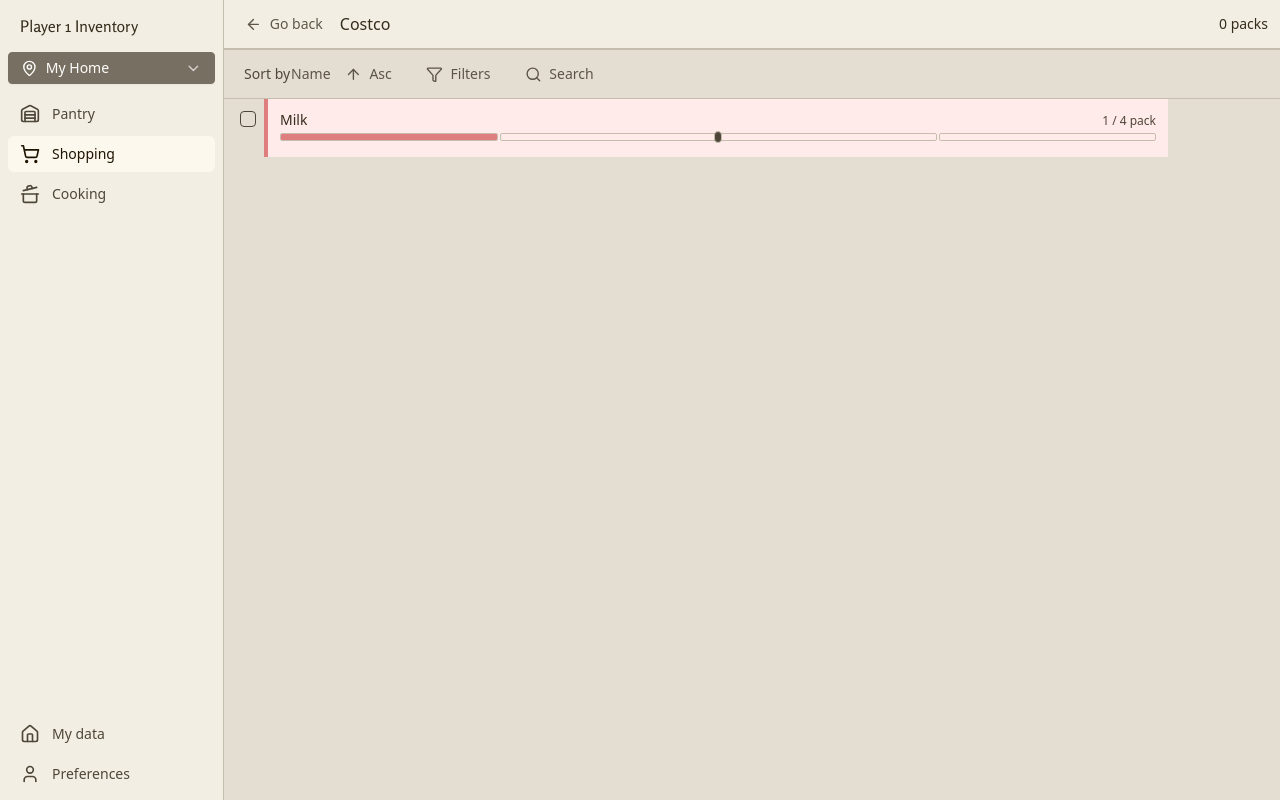
Test: Vendor cart page › user can toggle an item into the vendor cart
The width and height of the screenshot is (1280, 800).
Expected: the heading "Milk" is shown, [280,111,307,128]
Click the checkbox named "milk". click: {"x": 248, "y": 119}
box: [240,111,256,127]
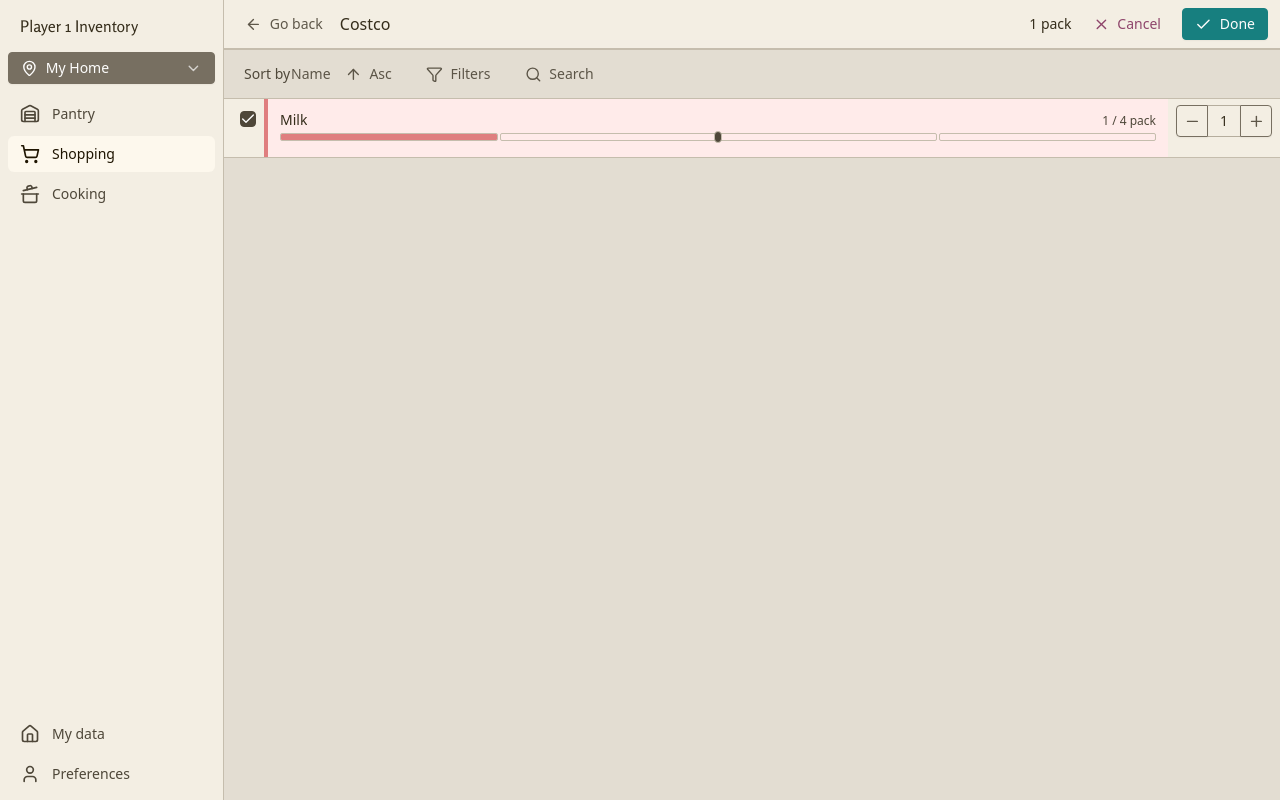
Now the text "1 pack" is shown, box [1029,14,1072,34]
